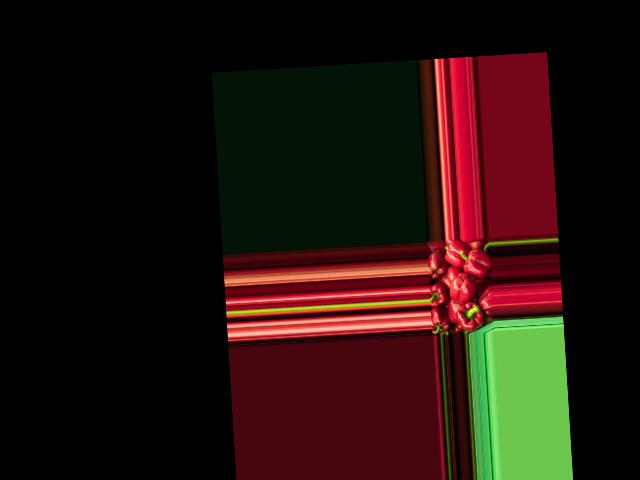bell_pepper: (430, 307, 450, 334)
